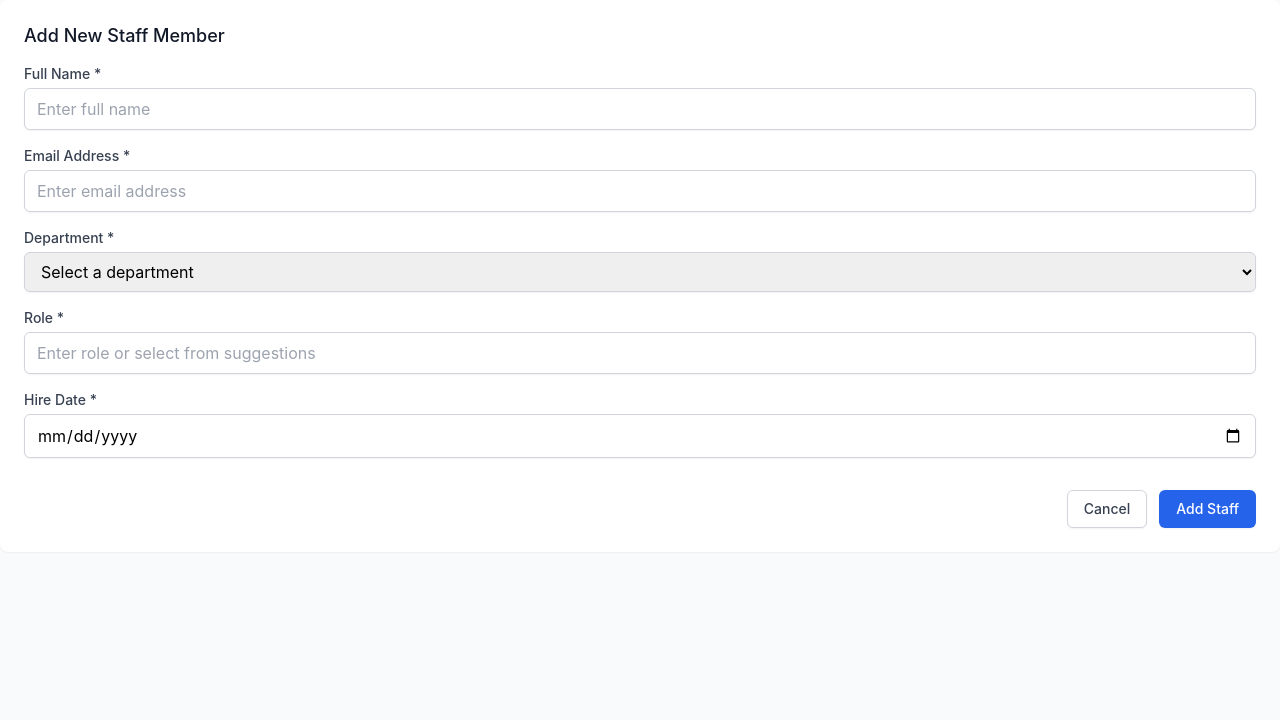
Scenario: Staff Management Integration › StaffForm Component › should validate required fields
The image size is (1280, 720).
Try to submit empty form
Click the button "Add Staff" at x=1208, y=509, box [1159,490,1256,528]
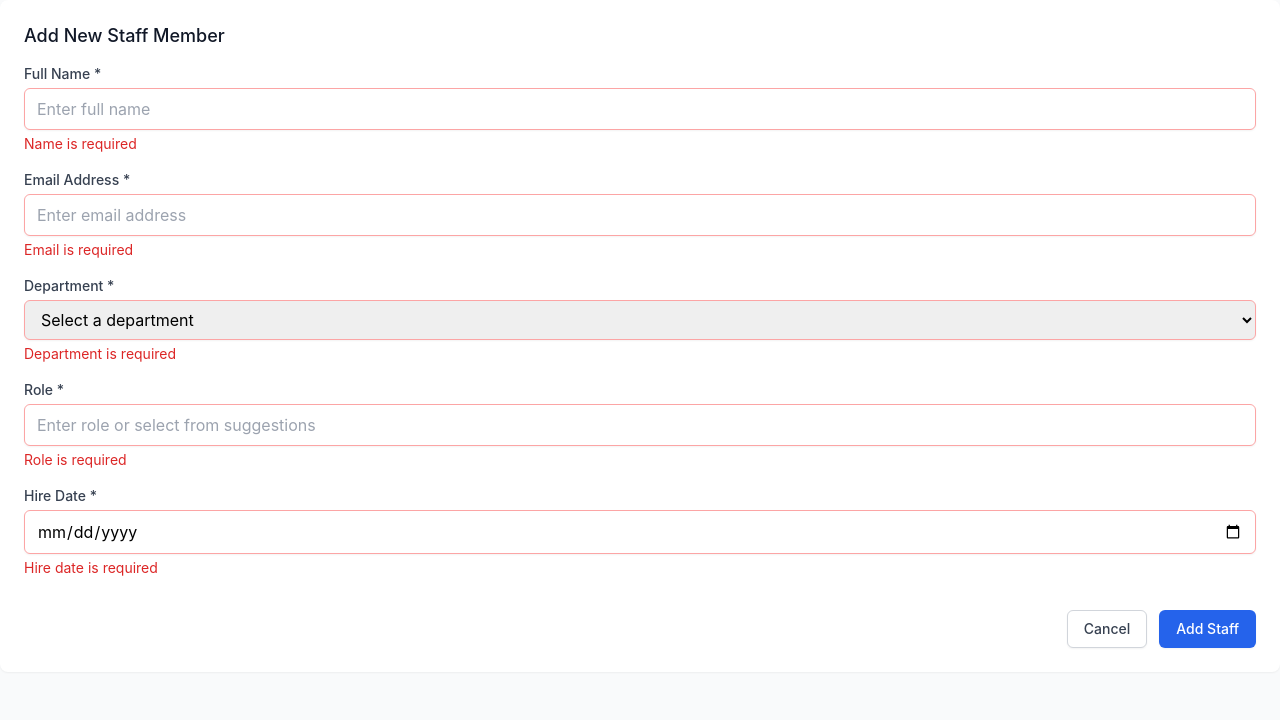
Check: the text "Name is required" is shown, box [24,135,137,152]
Check: the text "Email is required" is shown, box [24,241,133,258]
Check: the text "Department is required" is shown, box [24,345,176,362]
